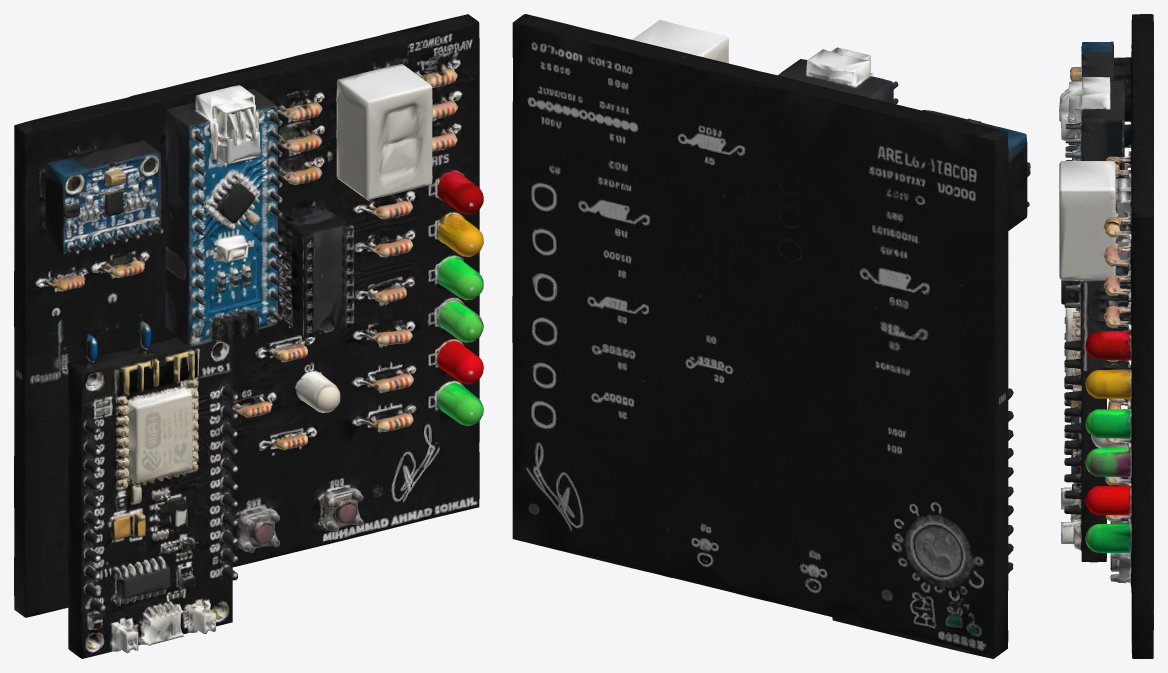
Rendered from iot.glb.
The picture shows the model from 3 angles, left to right: view 1: azimuth 30°, elevation 25°; view 2: azimuth 150°, elevation 25°; view 3: azimuth 270°, elevation 25°; orthographic projection. The views are drawn at different scales.
Size of the model in its own units: 1.74 by 1.9 by 0.343.
Materials: 1 (1 with a texture image).
